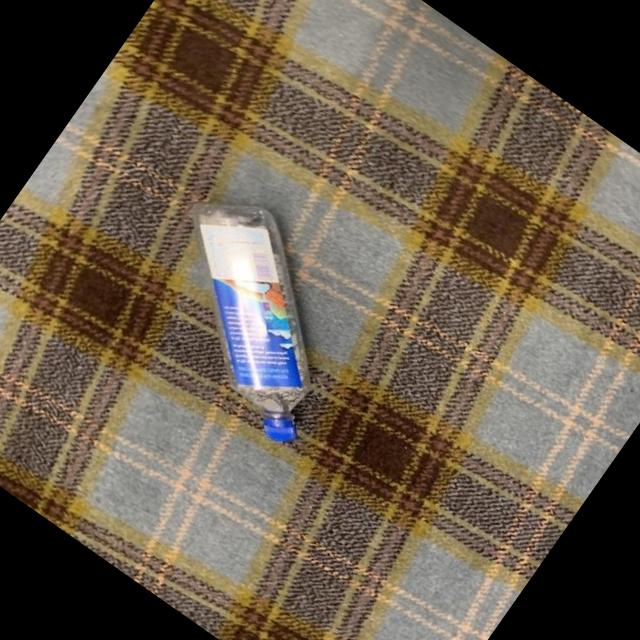BotolPlastik: (106, 173, 394, 454)
